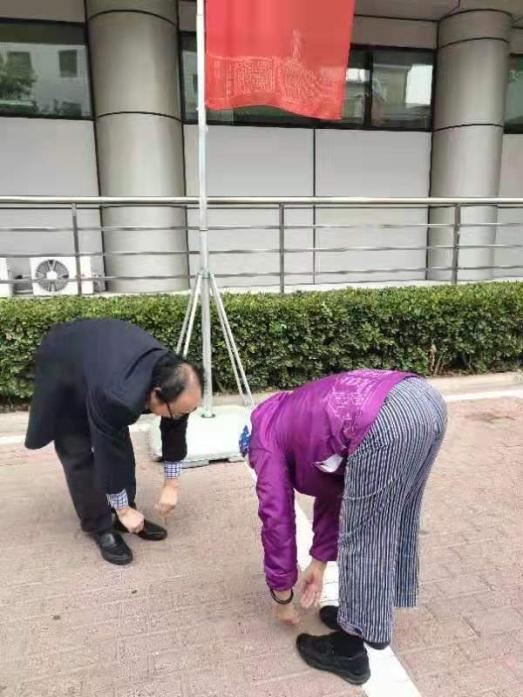bending: (241, 362, 456, 694), (29, 312, 207, 568)
